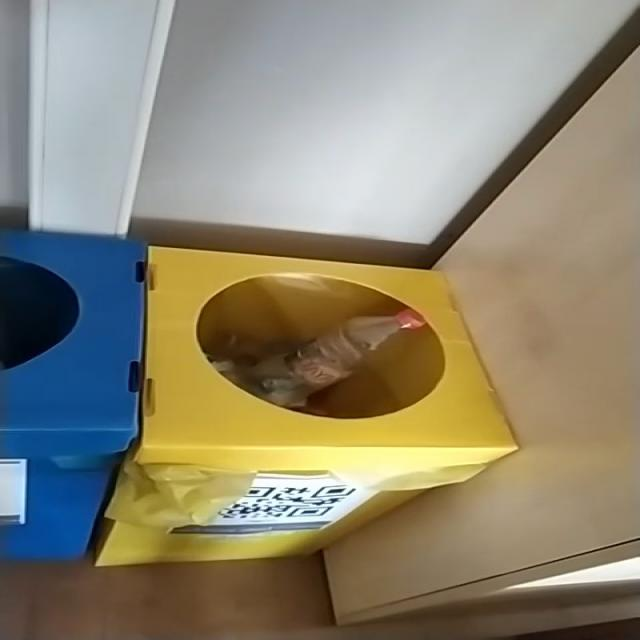plastic: (255, 308, 425, 408)
